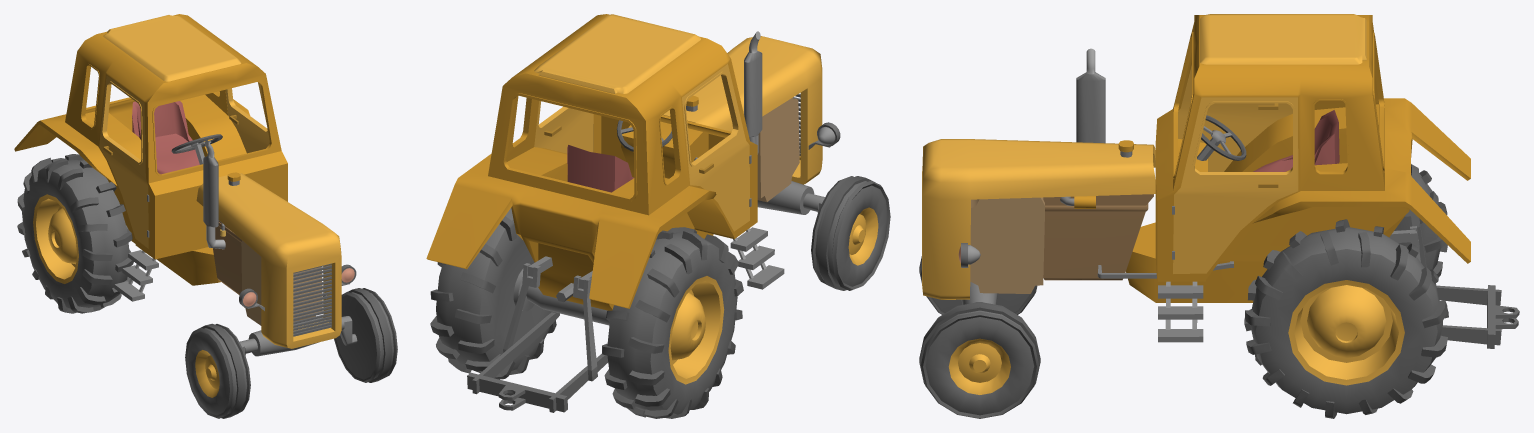
The model's file is TractorY.gltf.
3 views of the same model, side by side, from view 1: azimuth 30°, elevation 25°; view 2: azimuth 150°, elevation 25°; view 3: azimuth 270°, elevation 25° (orthographic). The views are drawn at different scales.
Visible parts, largest first — view 1: body, wheel_20, wheel_21, wheel_0, wheel_30, wheel_33, wheel_4, wheel_22, wheel_35, wheel_5, wheel_32, wheel_16; view 2: body, wheel_21, wheel_20, wheel_1, wheel_18, wheel_30, wheel_33, wheel_22, wheel_35, wheel_32, wheel_24; view 3: body, wheel_19, wheel_15, wheel_18, wheel_7, wheel_8, wheel_9, wheel_6, wheel_3, wheel_14, wheel_2, wheel_4.
Part boxes in pixels (<box>): body: <box>14,14,357,380</box>; wheel_20: <box>40,159,129,307</box>; wheel_21: <box>22,168,93,308</box>; wheel_0: <box>336,296,376,379</box>; wheel_30: <box>187,331,229,415</box>; wheel_33: <box>206,323,245,418</box>; wheel_4: <box>352,288,392,382</box>; wheel_22: <box>195,350,218,397</box>; wheel_35: <box>192,327,233,418</box>; wheel_5: <box>341,292,380,382</box>; wheel_32: <box>204,328,236,414</box>; wheel_16: <box>351,292,383,378</box>; body: <box>426,14,864,418</box>; wheel_21: <box>650,244,737,414</box>; wheel_20: <box>607,232,717,415</box>; wheel_1: <box>480,219,551,370</box>; wheel_18: <box>436,208,513,371</box>; wheel_30: <box>836,185,887,286</box>; wheel_33: <box>817,176,865,290</box>; wheel_22: <box>849,207,878,265</box>; wheel_35: <box>832,180,881,290</box>; wheel_32: <box>827,181,867,285</box>; wheel_24: <box>838,183,890,289</box>; body: <box>922,14,1519,418</box>; wheel_19: <box>1255,249,1437,414</box>; wheel_15: <box>925,317,1034,415</box>; wheel_18: <box>1250,227,1442,389</box>; wheel_7: <box>948,338,1010,394</box>; wheel_8: <box>958,343,1001,382</box>; wheel_9: <box>923,315,1036,418</box>; wheel_6: <box>920,311,1038,418</box>; wheel_3: <box>932,293,1029,312</box>; wheel_14: <box>919,307,1040,384</box>; wheel_2: <box>1394,216,1436,269</box>; wheel_4: <box>919,303,1040,361</box>.
Size of the model in its own units: 2.75 by 3.66 by 5.96.
1 material, 1 textured.
